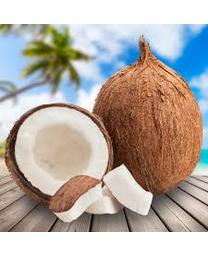coconut: (93, 41, 204, 193), (4, 101, 115, 206)
